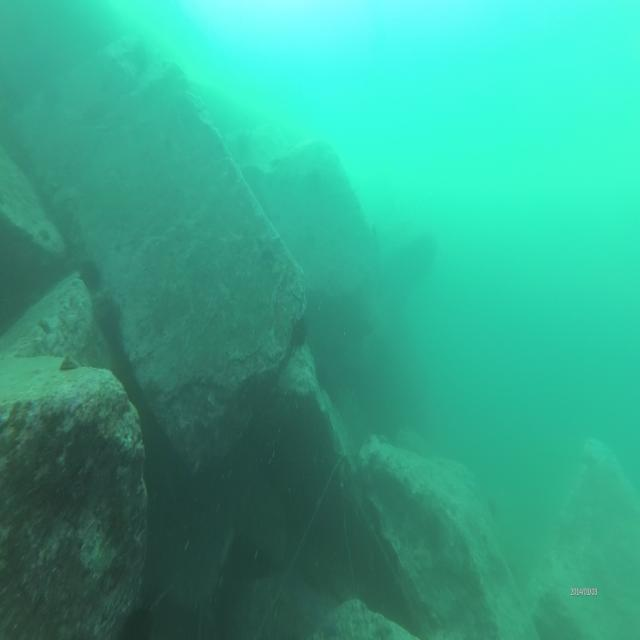echinus: (77, 252, 103, 296), (284, 309, 308, 356)
